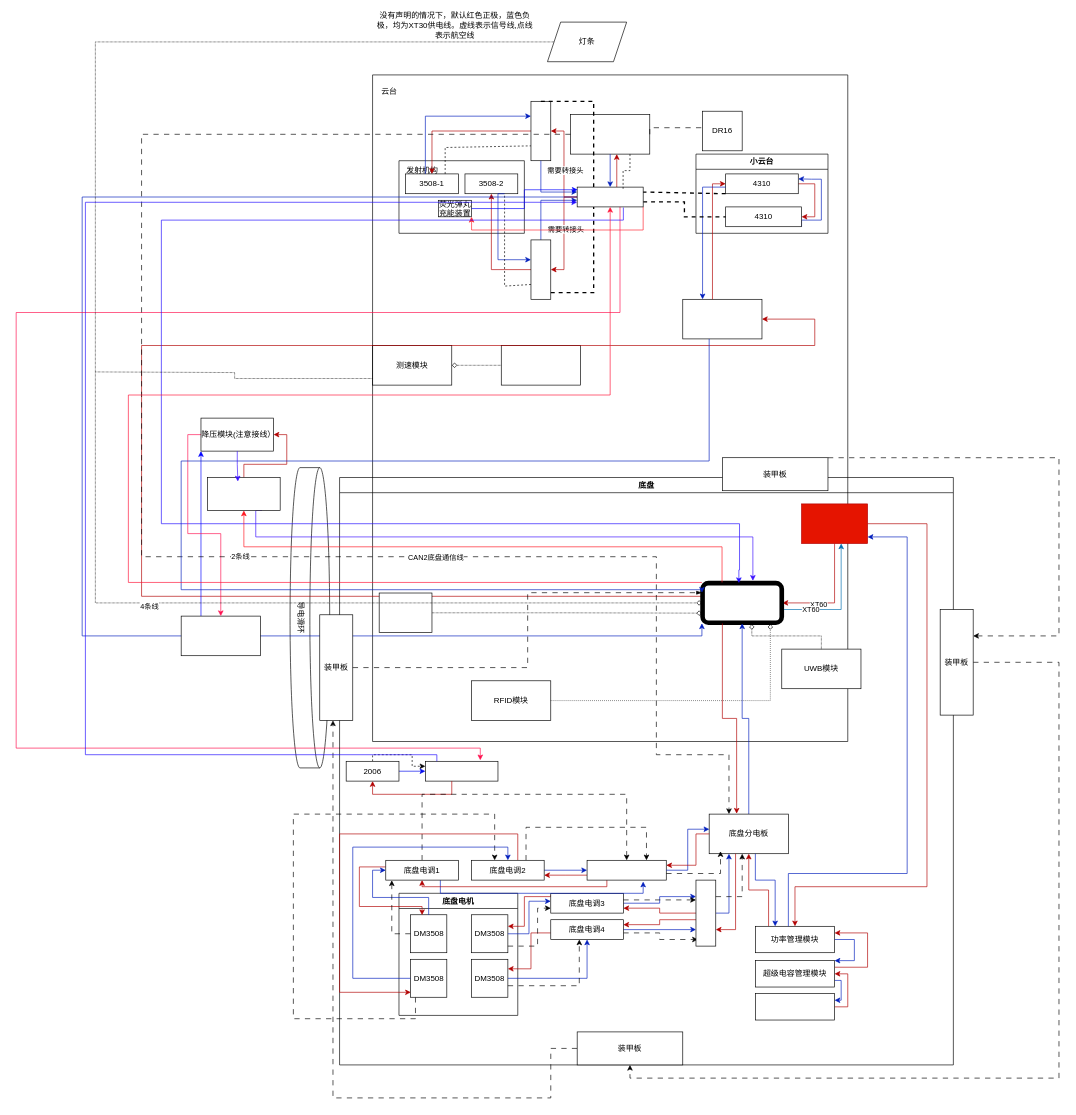
This 1076x1115 diagram has some shape labels left out. The centre of each missing label's shape, as x and y in pixels:
"C板" belongs at point 610,134.
"MINIPC分电板" belongs at point 243,494.
"主控模块" belongs at point 405,612.
"云台分电板" belongs at point 722,319.
"分电板1" belongs at point 626,870.
"分电板2" belongs at point 705,912.
"发射结构分电板" belongs at point 610,196.
"图传模块" belongs at point 540,365.
"小电脑" belongs at point 220,635.
"拨弹盘电调" belongs at point 461,771.
"摩擦轮电调1" belongs at point 540,131.
"摩擦轮电调2" belongs at point 540,269.
"电池" belongs at point 834,523.
"能源管理模块" belongs at point 742,602.
"超级电容" belongs at point 795,1006.
